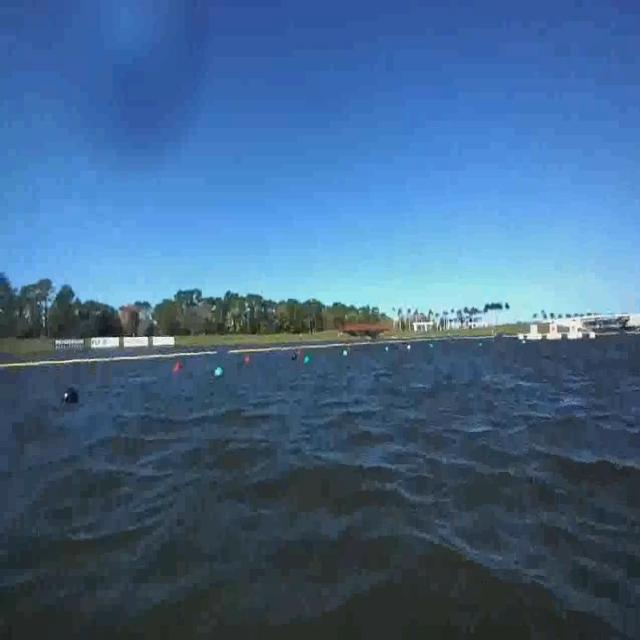black-buoy: (63, 387, 80, 405)
green-buoy: (214, 362, 225, 382)
green-column-buoy: (184, 354, 189, 366)
